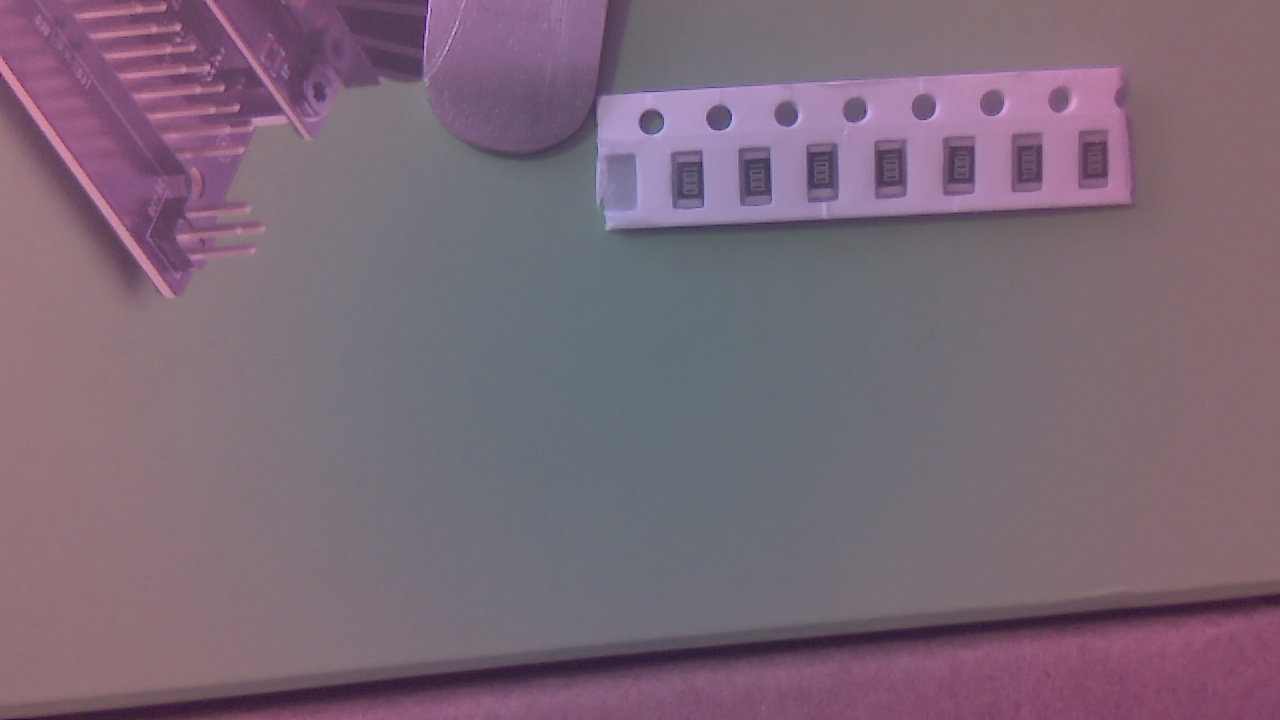Resistor: (741, 153, 779, 212), (1015, 137, 1052, 197), (674, 153, 711, 213), (1079, 131, 1114, 191), (948, 138, 982, 199), (811, 148, 845, 209), (878, 145, 913, 204)
